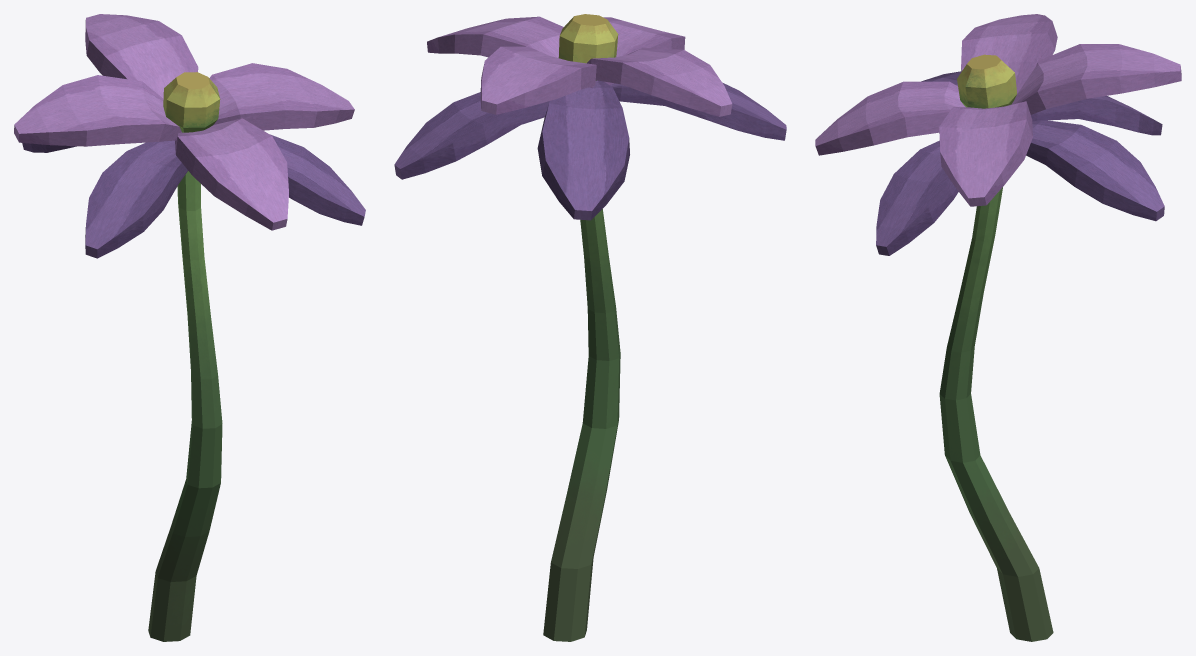
Rendered from flowerBig_v2.fbx.
3 renders of one model, left to right at view 1: azimuth 30°, elevation 25°; view 2: azimuth 150°, elevation 25°; view 3: azimuth 270°, elevation 25°, orthographic. The views are drawn at different scales.
Visible parts, largest first — view 1: bigFlower_v2; view 2: bigFlower_v2; view 3: bigFlower_v2.
Boxes of the visible parts, bbox=[...] form: bigFlower_v2: bbox=[14, 14, 365, 641]; bigFlower_v2: bbox=[394, 14, 786, 641]; bigFlower_v2: bbox=[815, 14, 1181, 641].
Bounding box in the file's own units: 827 × 1452 × 842.
